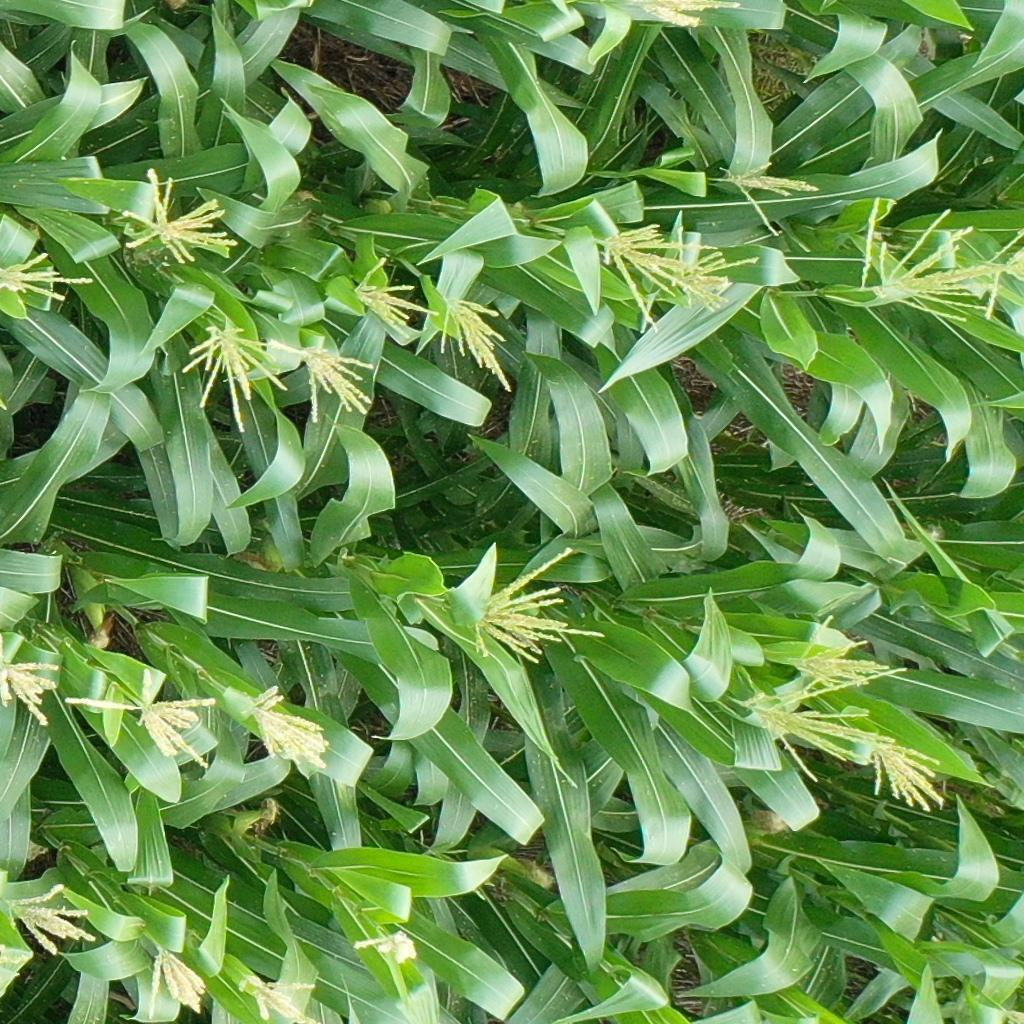Tassel: (737, 664, 910, 782), (853, 194, 994, 320), (465, 546, 609, 664), (63, 666, 220, 768), (592, 224, 718, 333), (181, 323, 287, 435), (118, 167, 235, 263), (270, 335, 377, 425), (351, 255, 441, 341), (243, 685, 329, 774), (725, 161, 820, 240), (794, 612, 889, 689), (440, 298, 515, 394), (2, 882, 97, 956), (670, 248, 763, 317), (869, 739, 952, 811), (1, 633, 63, 726), (145, 945, 208, 1020), (1, 251, 95, 300), (238, 972, 320, 1024), (983, 229, 1024, 321), (620, 1, 741, 31), (352, 928, 420, 962), (1, 942, 36, 979), (1003, 1008, 1024, 1024)
